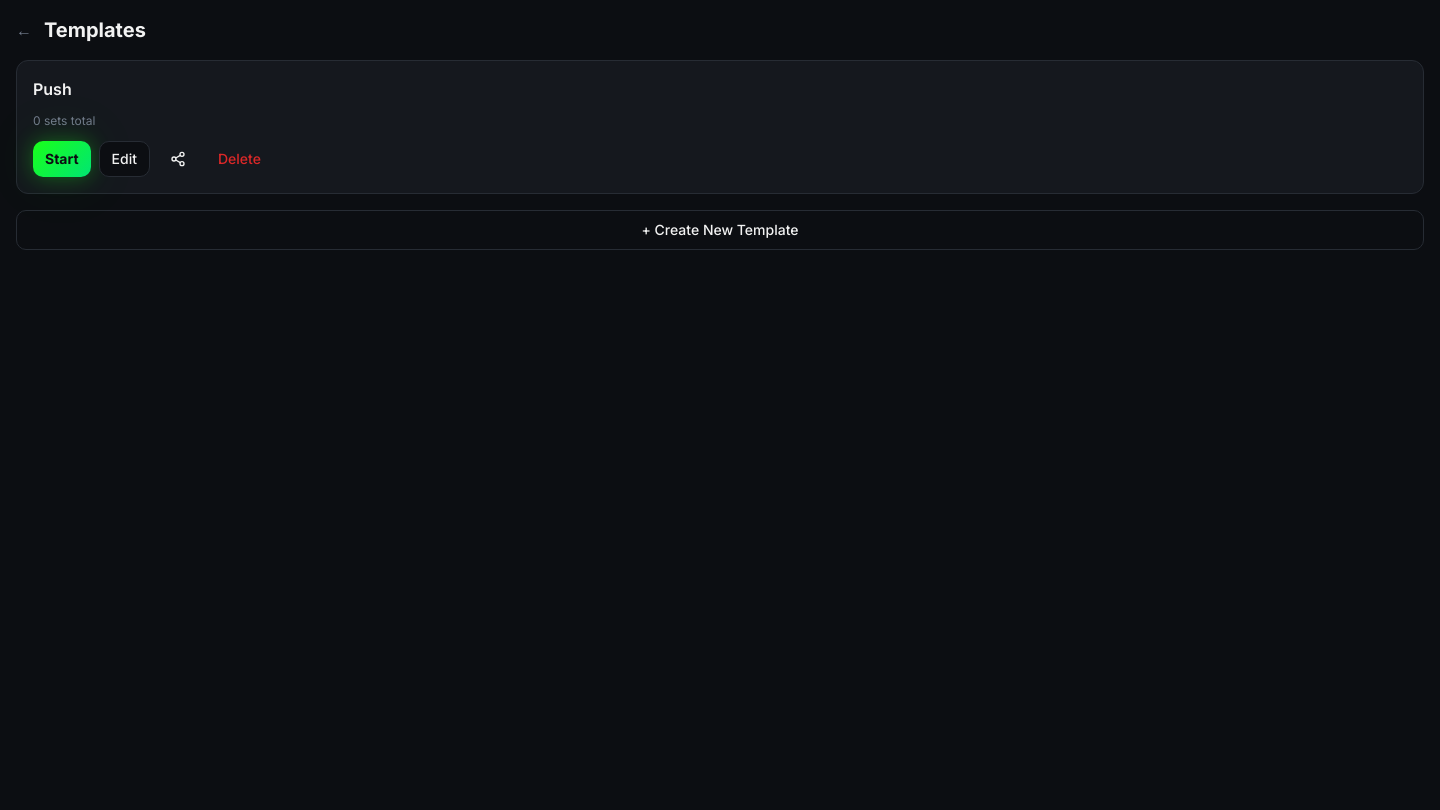
deleting a template a program still uses › is refused and names the program
The image size is (1440, 810).
Click the button "Delete": (239, 159) x1=206 y1=141 x2=273 y2=177
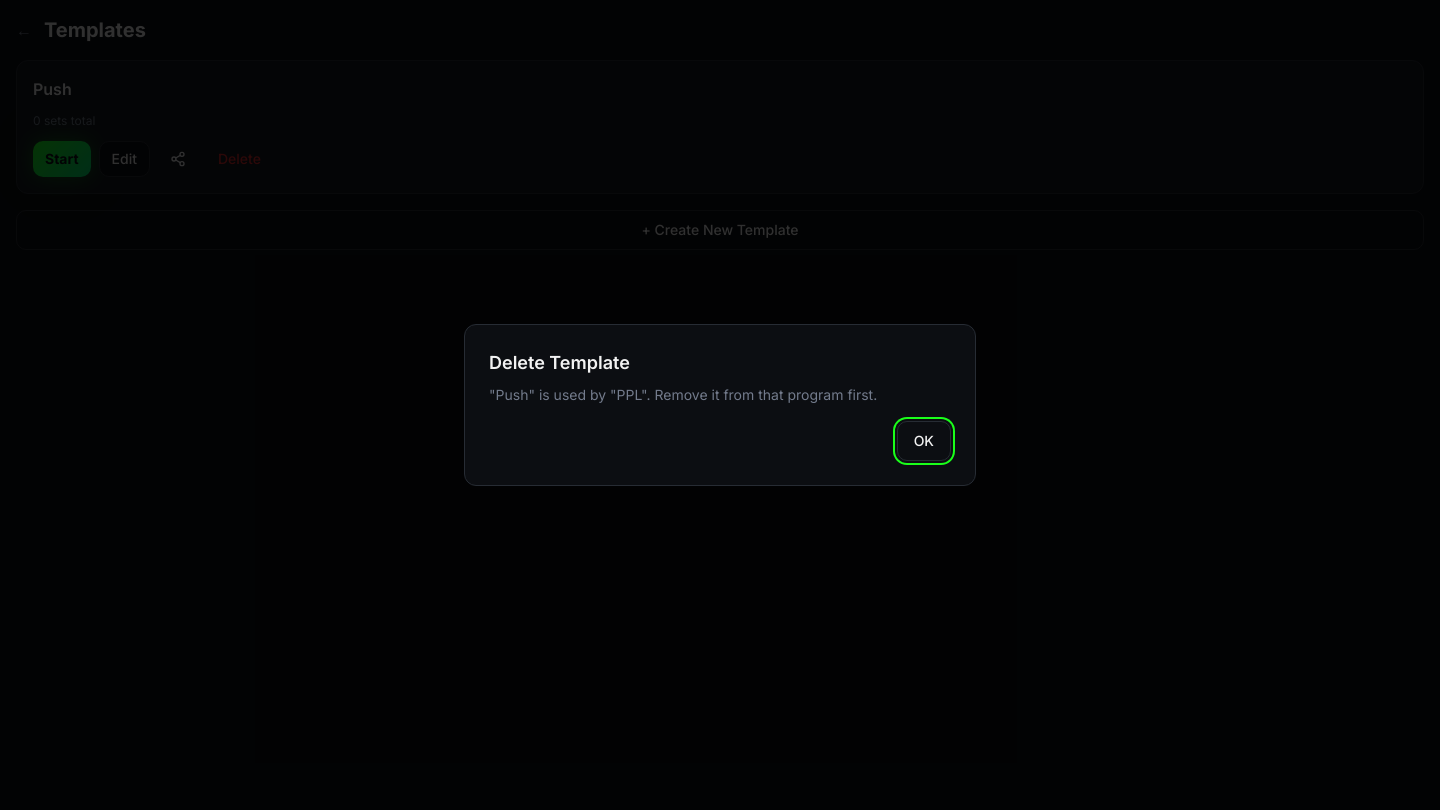
Result: the text "\"Push\" is used by \"PPL\". Remove it from that program first." is shown at x1=489 y1=386 x2=877 y2=403
